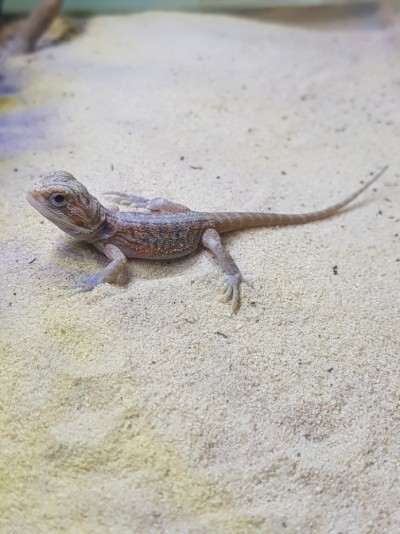bearded: (25, 162, 381, 318)
